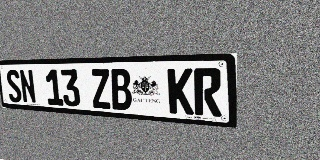1: (44, 69, 64, 106)
3: (60, 69, 81, 107)
B: (109, 69, 133, 111)
K: (167, 68, 194, 115)
N: (19, 70, 37, 104)
R: (194, 68, 222, 117)
S: (5, 70, 23, 103)
Z: (90, 69, 112, 109)
